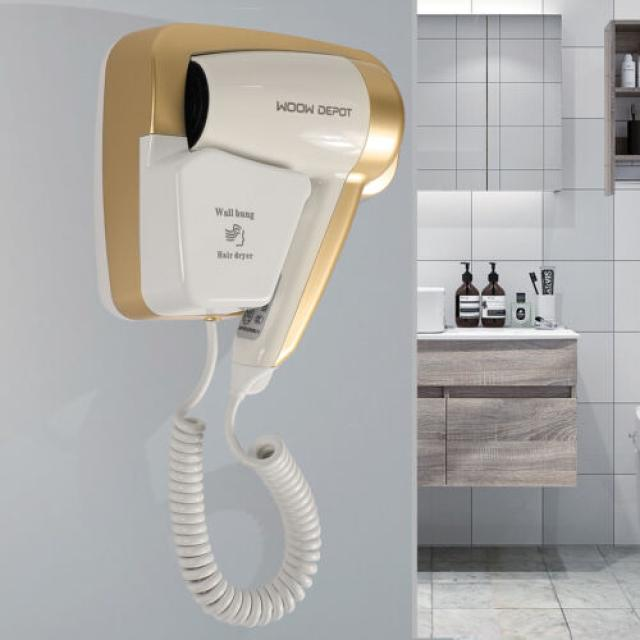dryer: (94, 15, 412, 629), (119, 30, 378, 411)
